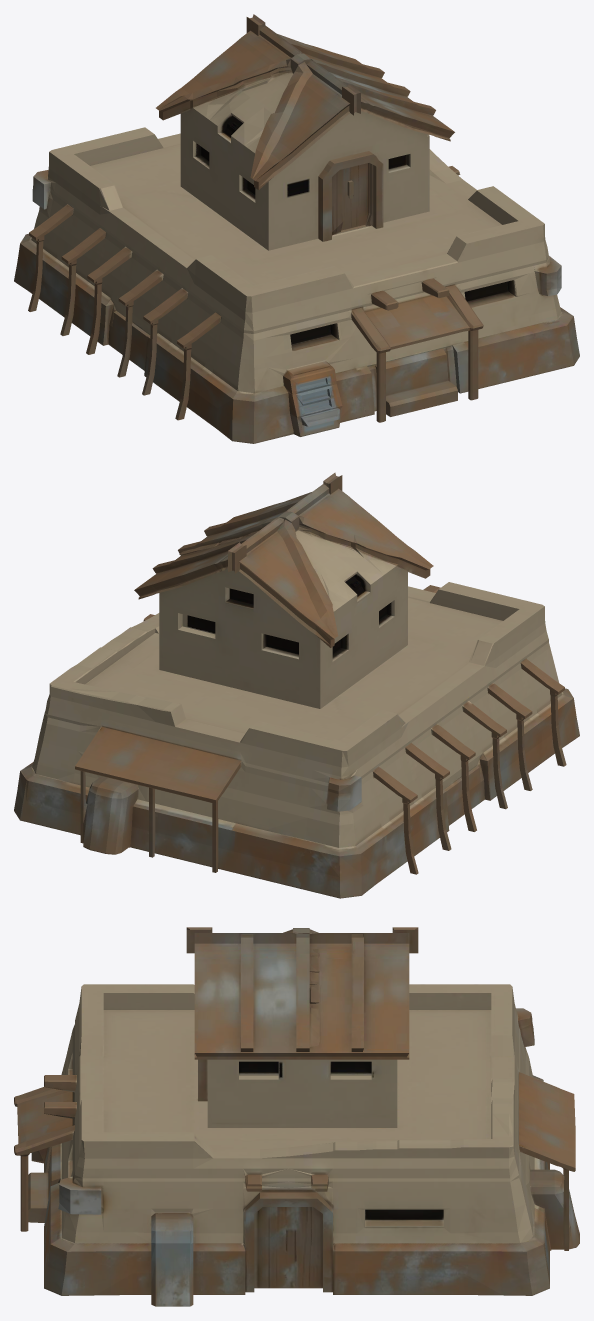
File: desertoutpost.glb
3 renders of one model, top to bottom at view 1: azimuth 30°, elevation 25°; view 2: azimuth 150°, elevation 25°; view 3: azimuth 270°, elevation 25°, orthographic. The views are drawn at different scales.
Visible parts, largest first — view 1: tripo_node_60bda01a-5124-403e-8f2c-ca96fdfc0b8a; view 2: tripo_node_60bda01a-5124-403e-8f2c-ca96fdfc0b8a; view 3: tripo_node_60bda01a-5124-403e-8f2c-ca96fdfc0b8a.
Part boxes in pixels (box(x1,y1,x2,y2)): tripo_node_60bda01a-5124-403e-8f2c-ca96fdfc0b8a: box(14, 14, 579, 443); tripo_node_60bda01a-5124-403e-8f2c-ca96fdfc0b8a: box(14, 472, 579, 898); tripo_node_60bda01a-5124-403e-8f2c-ca96fdfc0b8a: box(14, 927, 579, 1306).
Bounding box in the file's own units: 9.42 × 6.01 × 10.96.
Materials: 1 (1 with a texture image).
